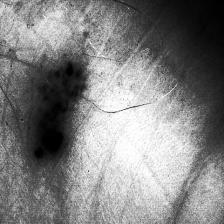Benign Marking or Mole: (27, 62, 89, 166)
